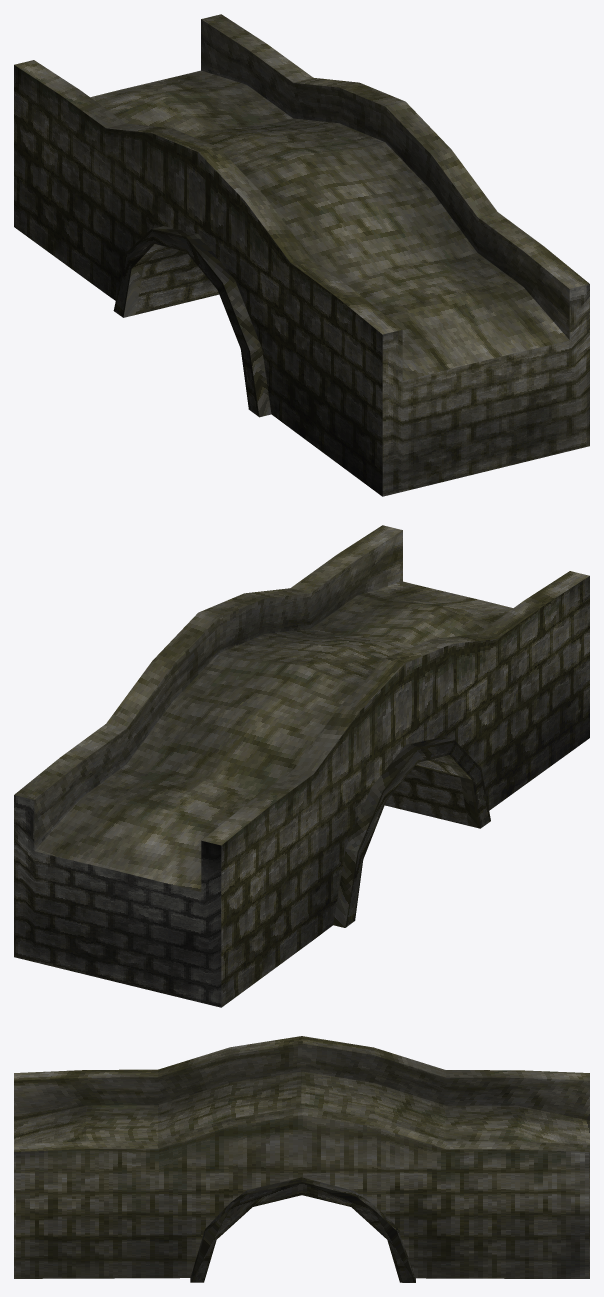
File: bridge.glb
The picture shows the model from 3 angles, top to bottom: view 1: azimuth 30°, elevation 25°; view 2: azimuth 150°, elevation 25°; view 3: azimuth 270°, elevation 25°; orthographic projection. The views are drawn at different scales.
Visible parts, largest first — view 1: bridge; view 2: bridge; view 3: bridge.
Boxes of the visible parts, bbox=[...] form: bridge: bbox=[14, 14, 589, 496]; bridge: bbox=[14, 525, 589, 1007]; bridge: bbox=[14, 1036, 589, 1282].
Bounding box in the file's own units: 9.68 × 8.37 × 26.67.
Materials: 1 (1 with a texture image).
